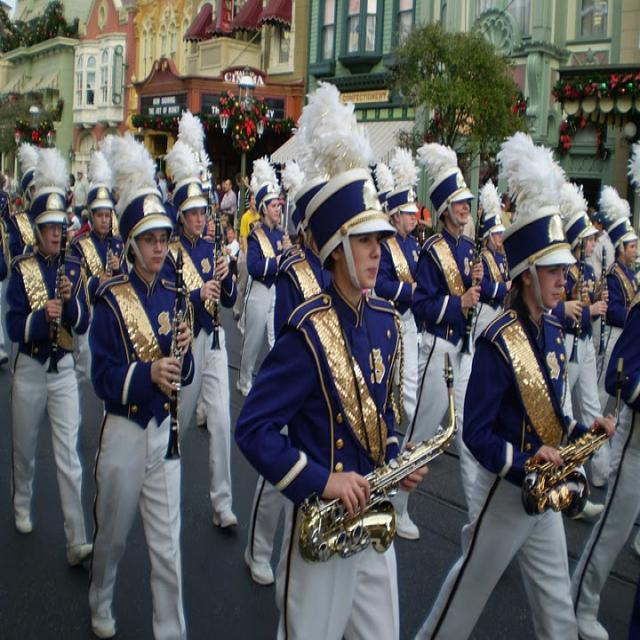clarinet: (159, 247, 194, 468), (45, 215, 74, 374), (460, 209, 488, 357), (566, 235, 587, 362), (208, 213, 226, 353), (596, 252, 608, 359), (101, 214, 116, 271)
saxophone: (297, 351, 457, 560), (522, 363, 628, 520)
